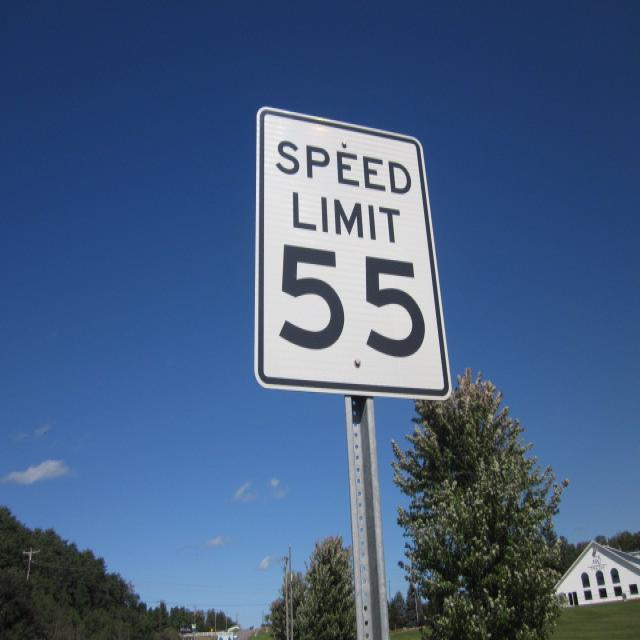regulatory: (255, 104, 453, 403)
